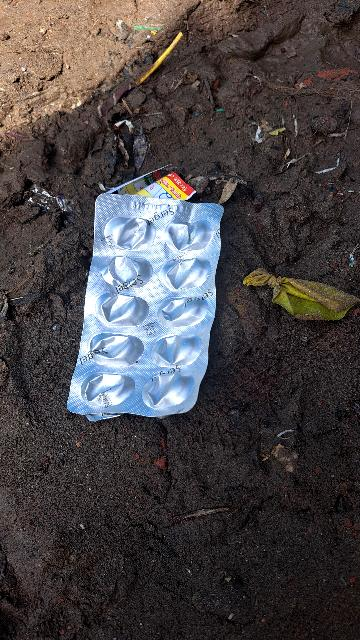medicine: (63, 184, 222, 426)
